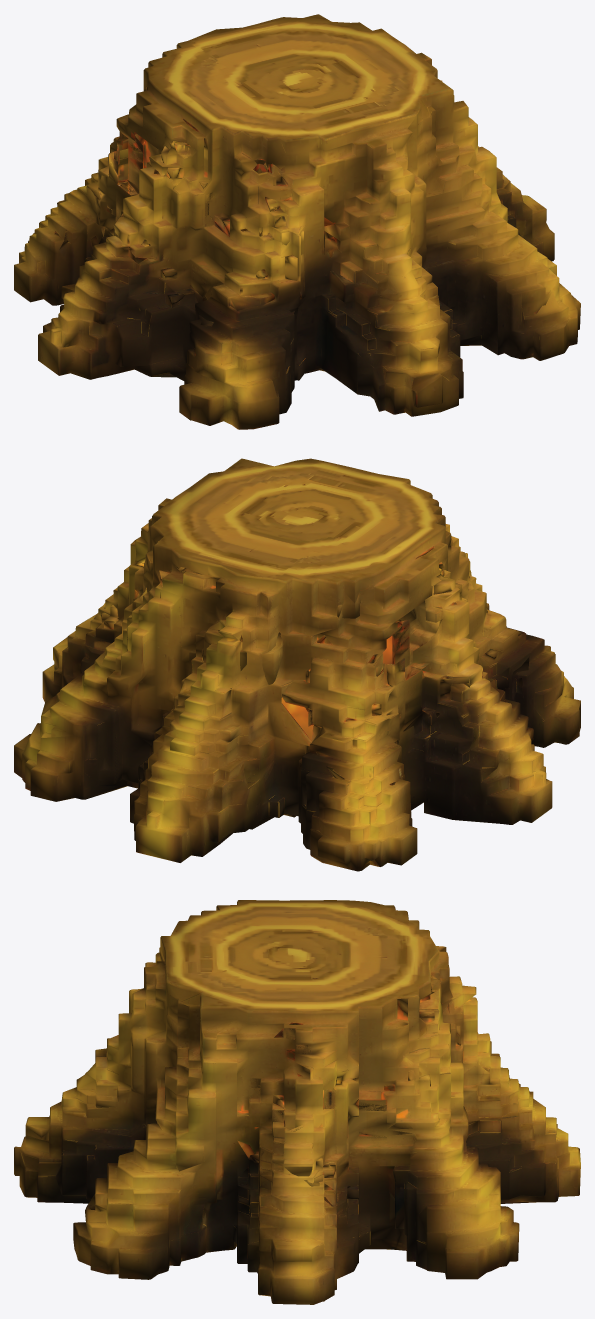
File: whorlstump.glb
3 views of the same model, one above another, from view 1: azimuth 30°, elevation 25°; view 2: azimuth 150°, elevation 25°; view 3: azimuth 270°, elevation 25° (orthographic).
Bounding box in the file's own units: 1.9 × 0.8571 × 1.91.
Materials: 1 (1 with a texture image).
